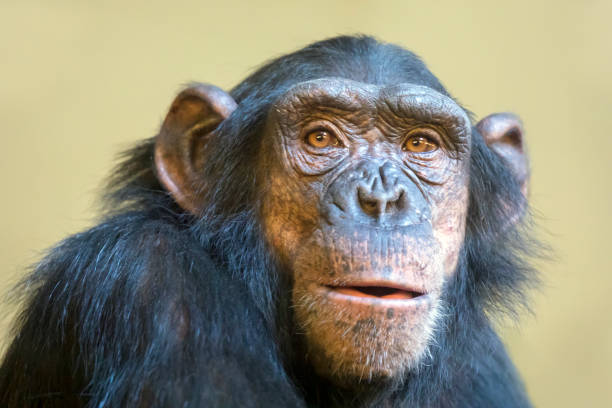chimpanzee: (109, 16, 552, 408)
